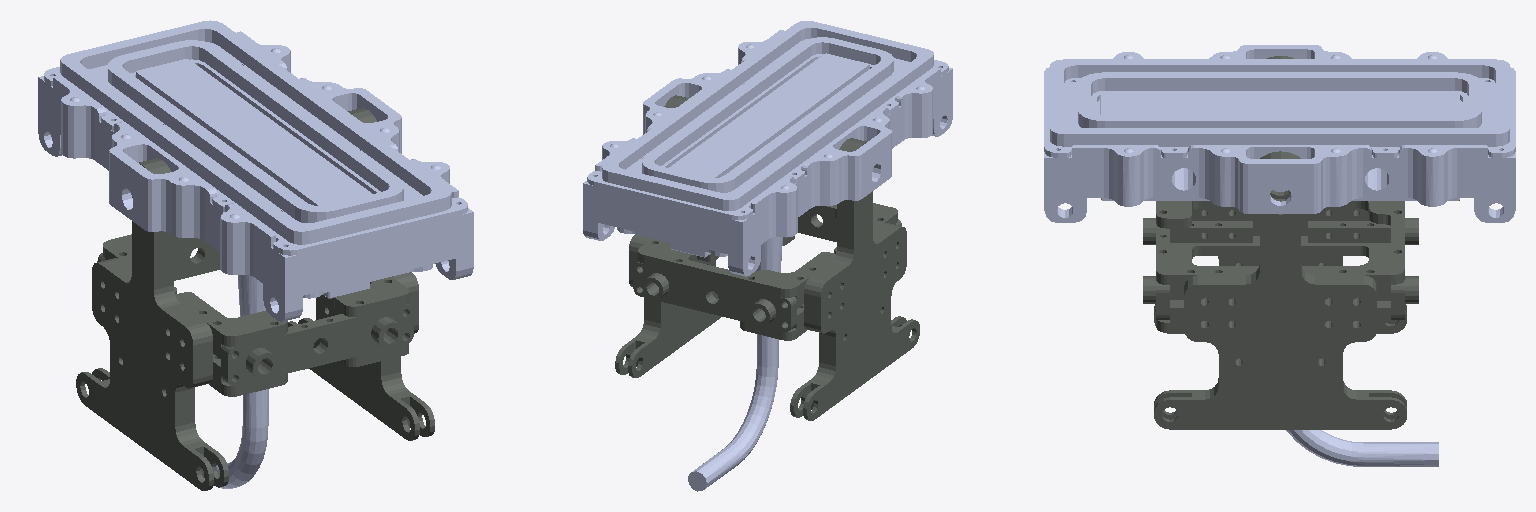
URDF robot description (asm_description):
<?xml version="1.0" encoding="utf-8"?>
<!-- This URDF was automatically created by SolidWorks to URDF Exporter! Originally created by Stephen Brawner (brawner@gmail.com) 
     Commit Version: 1.6.0-4-g7f85cfe  Build Version: 1.6.7995.38578
     For more information, please see http://wiki.ros.org/sw_urdf_exporter -->
<robot
  name="asm_description">
  <link
    name="world" />
  <joint
    name="world_to_base_link"
    type="fixed">
    <origin
      xyz="0 0 0"
      rpy="0 0 0" />
    <parent
      link="world" />
    <child
      link="base_link" />
  </joint>
  <link
    name="base_link">
    <inertial>
      <origin
        xyz="0.034581 -0.00043078 0.023172"
        rpy="0 0 0" />
      <mass
        value="0.16294" />
      <inertia
        ixx="8.2272E-05"
        ixy="1.0781E-07"
        ixz="4.4428E-09"
        iyy="0.00010387"
        iyz="-6.2567E-08"
        izz="0.00014474" />
    </inertial>
    <visual>
      <origin
        xyz="0 0 0"
        rpy="0 0 0" />
      <geometry>
        <mesh
          filename="package://asm_description/meshes/base_link.STL" />
      </geometry>
      <material
        name="base_link_material">
        <color
          rgba="0.29804 0.29804 0.29804 1" />
      </material>
    </visual>
    <collision>
      <origin
        xyz="0 0 0"
        rpy="0 0 0" />
      <geometry>
        <mesh
          filename="package://asm_description/meshes/base_link.STL" />
      </geometry>
    </collision>
  </link>
  <link
    name="tool_link1">
    <inertial>
      <origin
        xyz="-0.00057962 -0.00051221 -0.0055231"
        rpy="0 0 0" />
      <mass
        value="0.099171" />
      <inertia
        ixx="6.8128E-05"
        ixy="-8.4374E-08"
        ixz="3.0296E-14"
        iyy="5.472E-05"
        iyz="4.5685E-12"
        izz="3.1648E-05" />
    </inertial>
    <visual>
      <origin
        xyz="0 0 0"
        rpy="0 0 0" />
      <geometry>
        <mesh
          filename="package://asm_description/meshes/tool_link1.STL" />
      </geometry>
      <material
        name="tool_link1_material">
        <color
          rgba="0.43137 0.45098 0.43137 1" />
      </material>
    </visual>
    <collision>
      <origin
        xyz="0 0 0"
        rpy="0 0 0" />
      <geometry>
        <mesh
          filename="package://asm_description/meshes/tool_link1.STL" />
      </geometry>
    </collision>
  </link>
  <joint
    name="tool_joint1"
    type="revolute">
    <origin
      xyz="0 0 0.098"
      rpy="0 0 0" />
    <parent
      link="base_link" />
    <child
      link="tool_link1" />
    <axis
      xyz="0 -1 0" />
    <limit
      lower="-0.1500"
      upper="0.1500"
      effort="20"
      velocity="0.5" />
    <dynamics
      damping="10"
      friction="10" />
  </joint>
  <link
    name="tool_link2">
    <inertial>
      <origin
        xyz="-0.0004339 0.00018809 -0.002683"
        rpy="0 0 0" />
      <mass
        value="0.31013" />
      <inertia
        ixx="0.00075589"
        ixy="4.0173E-07"
        ixz="-5.4911E-08"
        iyy="0.00023419"
        iyz="1.1979E-05"
        izz="0.0008144" />
    </inertial>
    <visual>
      <origin
        xyz="0 0 0"
        rpy="0 0 0" />
      <geometry>
        <mesh
          filename="package://asm_description/meshes/tool_link2.STL" />
      </geometry>
      <material
        name="tool_link2_material">
        <color
          rgba="0.79216 0.81961 0.93333 1" />
      </material>
    </visual>
    <collision>
      <origin
        xyz="0 0 0"
        rpy="0 0 0" />
      <geometry>
        <mesh
          filename="package://asm_description/meshes/tool_link2.STL" />
      </geometry>
    </collision>
  </link>
  <joint
    name="tool_joint2"
    type="revolute">
    <origin
      xyz="0 0 0.0495"
      rpy="0 0 0" />
    <parent
      link="tool_link1" />
    <child
      link="tool_link2" />
    <axis
      xyz="1 0 0" />
    <limit
      lower="-0.3000"
      upper="0.3000"
      effort="20"
      velocity="0.5" />
    <dynamics
      damping="10"
      friction="10" />
  </joint>
</robot>

--- Facts derived from the render (not from the file) ---
Views: 3 orthographic renders of the robot side by side, from view 1: azimuth 30°, elevation 25°; view 2: azimuth 150°, elevation 25°; view 3: azimuth 270°, elevation 25°.
Model asm_description with 4 links and 3 joints (2 revolute, 1 fixed), rooted at world, posed every joint at zero.
Links seen in each view (by area): view 1: tool_link2, tool_link1; view 2: tool_link2, tool_link1; view 3: tool_link2, tool_link1.
Boxes of the visible links, x1,y1,x2,y2 form: tool_link2: (38, 20, 473, 488); tool_link1: (76, 108, 434, 490); tool_link2: (583, 21, 952, 491); tool_link1: (615, 95, 919, 420); tool_link2: (1044, 45, 1515, 466); tool_link1: (1143, 56, 1418, 429).
Size in the robot's own frame: 0.102 by 0.1705 by 0.1475 metres.
Meshes: 3 distinct files referenced, 2 mesh visuals loaded (2 binary STL); not drawn: 1 (reference not matched to a file when rendering).
